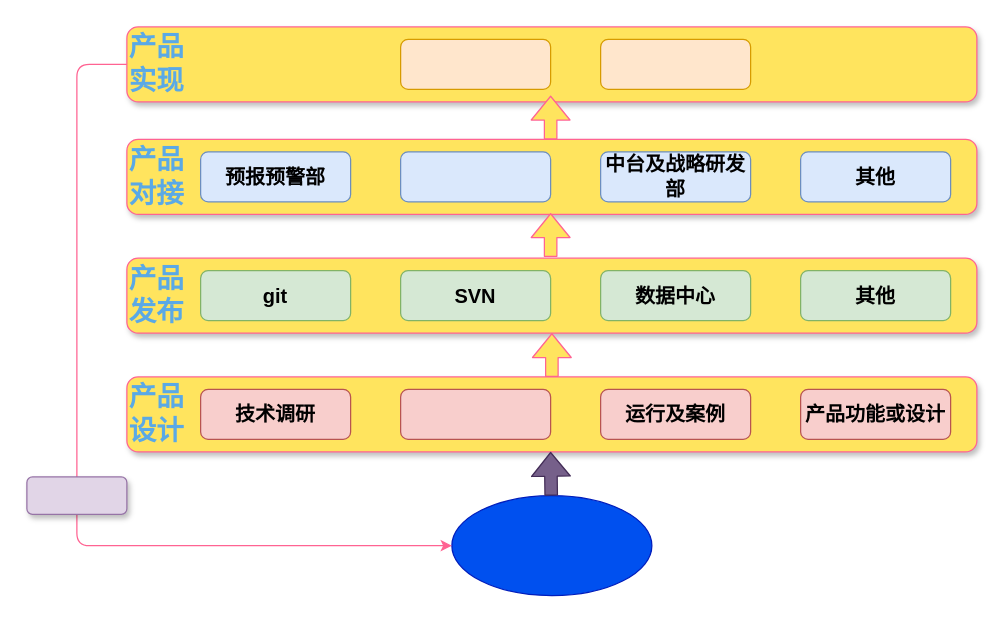
This 1006x618 diagram has some shape labels left out. Here are the shapes that lost their labels. From the top down, the centre of each, then its label:
point (475, 63): 软件平台
point (675, 63): 咨询服务
point (475, 176): 综合分析部
point (475, 413): 算法或技术
point (77, 497): 产品验证
point (551, 545): 产品需求
